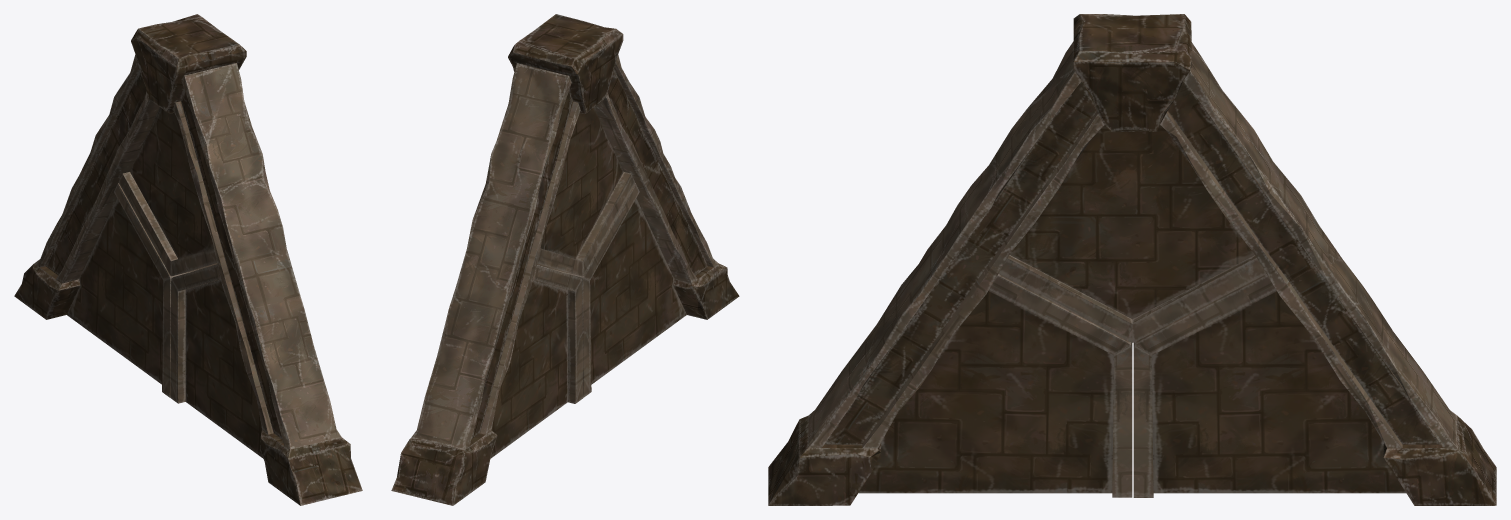
File: Puerta Abrirse.fbx
The picture shows the model from 3 angles, left to right: view 1: azimuth 30°, elevation 25°; view 2: azimuth 150°, elevation 25°; view 3: azimuth 270°, elevation 25°; orthographic projection. The views are drawn at different scales.
Visible parts, largest first — view 1: puerta baja, puerta2.2 low.001, puerta2.2 low.002, puerta2.1 low.001; view 2: puerta baja, puerta2.2 low.002, puerta2.2 low.001, puerta2.1 low.001; view 3: puerta baja, puerta2.2 low.002, puerta2.2 low.001, puerta2.1 low.001.
Part boxes in pixels (x1,y1,x2,y2): puerta baja: [14, 14, 362, 505]; puerta2.2 low.001: [67, 183, 195, 397]; puerta2.2 low.002: [170, 264, 263, 458]; puerta2.1 low.001: [118, 107, 217, 276]; puerta baja: [391, 14, 739, 505]; puerta2.2 low.002: [549, 183, 686, 397]; puerta2.2 low.001: [490, 265, 583, 458]; puerta2.1 low.001: [537, 107, 635, 276]; puerta baja: [768, 14, 1496, 505]; puerta2.2 low.002: [858, 274, 1132, 497]; puerta2.2 low.001: [1133, 274, 1405, 497]; puerta2.1 low.001: [998, 125, 1266, 342].
Size of the model in its own units: 43.78 by 213 by 310.
